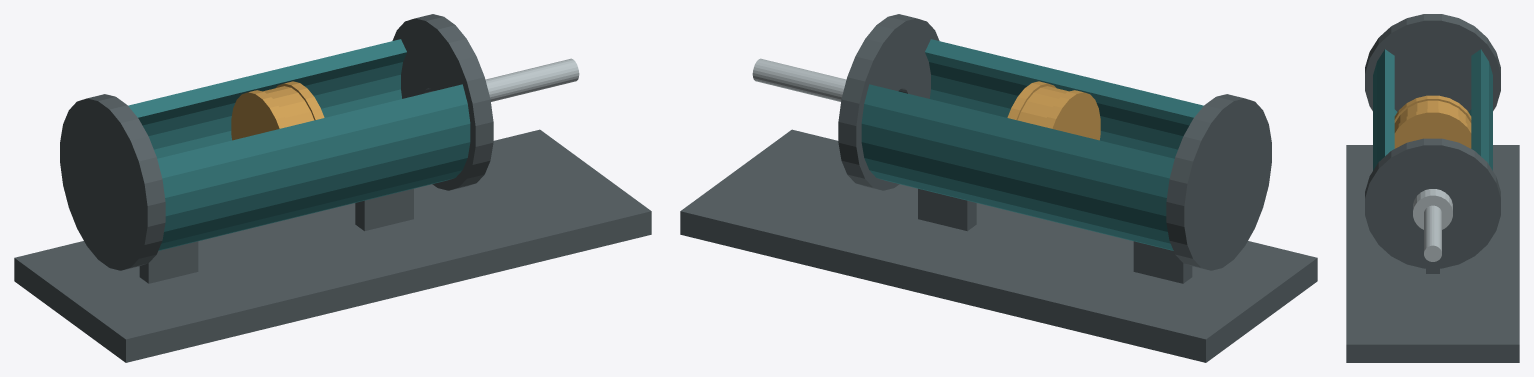
The picture shows the model from 3 angles, left to right: view 1: azimuth 30°, elevation 25°; view 2: azimuth 150°, elevation 25°; view 3: azimuth 270°, elevation 25°; orthographic projection. The views are drawn at different scales.
Parts seen in each view (by area): view 1: CompleteGroundBase, ContinuousTopCutawayCylinder, WholeClosedRearEndCap, TrueBoredFrontEndCap, IndependentSteppedPiston, ContinuousRodIntegralStopCollar, BroadPedestal_1, BroadPedestal_0; view 2: CompleteGroundBase, ContinuousTopCutawayCylinder, WholeClosedRearEndCap, TrueBoredFrontEndCap, IndependentSteppedPiston, ContinuousRodIntegralStopCollar, BroadPedestal_1, BroadPedestal_0; view 3: CompleteGroundBase, TrueBoredFrontEndCap, WholeClosedRearEndCap, ContinuousTopCutawayCylinder, IndependentSteppedPiston, ContinuousRodIntegralStopCollar.
Boxes of the visible parts, x1,y1,x2,y2 form: CompleteGroundBase: [14, 129, 651, 362]; ContinuousTopCutawayCylinder: [128, 39, 470, 250]; WholeClosedRearEndCap: [60, 94, 165, 270]; TrueBoredFrontEndCap: [392, 14, 493, 190]; IndependentSteppedPiston: [231, 81, 324, 140]; ContinuousRodIntegralStopCollar: [485, 58, 579, 101]; BroadPedestal_1: [355, 188, 413, 231]; BroadPedestal_0: [139, 241, 198, 283]; CompleteGroundBase: [680, 129, 1317, 362]; ContinuousTopCutawayCylinder: [861, 39, 1203, 250]; WholeClosedRearEndCap: [1166, 94, 1271, 270]; TrueBoredFrontEndCap: [838, 14, 939, 190]; IndependentSteppedPiston: [1007, 81, 1100, 140]; ContinuousRodIntegralStopCollar: [752, 58, 846, 101]; BroadPedestal_1: [918, 188, 976, 231]; BroadPedestal_0: [1133, 241, 1192, 283]; CompleteGroundBase: [1346, 145, 1519, 362]; TrueBoredFrontEndCap: [1365, 138, 1500, 268]; WholeClosedRearEndCap: [1365, 14, 1500, 111]; ContinuousTopCutawayCylinder: [1373, 49, 1492, 170]; IndependentSteppedPiston: [1394, 95, 1471, 148]; ContinuousRodIntegralStopCollar: [1413, 189, 1452, 261].
Size of the model in its own units: 2.34 by 0.8871 by 0.86.
